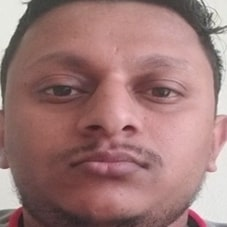awake: (28, 43, 195, 212)
